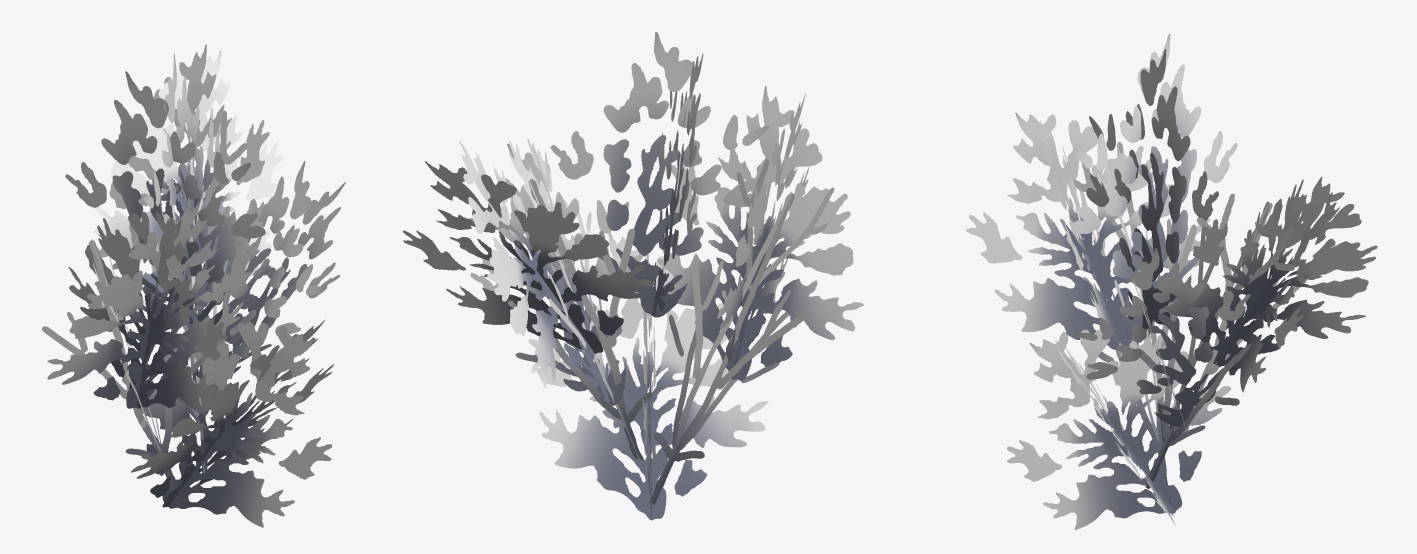
Rendered from Bush_B.fbx.
3 renders of one model, left to right at view 1: azimuth 30°, elevation 25°; view 2: azimuth 150°, elevation 25°; view 3: azimuth 270°, elevation 25°, orthographic. The views are drawn at different scales.
Parts seen in each view (by area): view 1: BushB; view 2: BushB; view 3: BushB.
Boxes of the visible parts, <box> form: BushB: <box>42,44,345,527</box>; BushB: <box>403,32,863,520</box>; BushB: <box>966,33,1377,529</box>.
Size of the model in its own units: 185 by 216 by 187.
